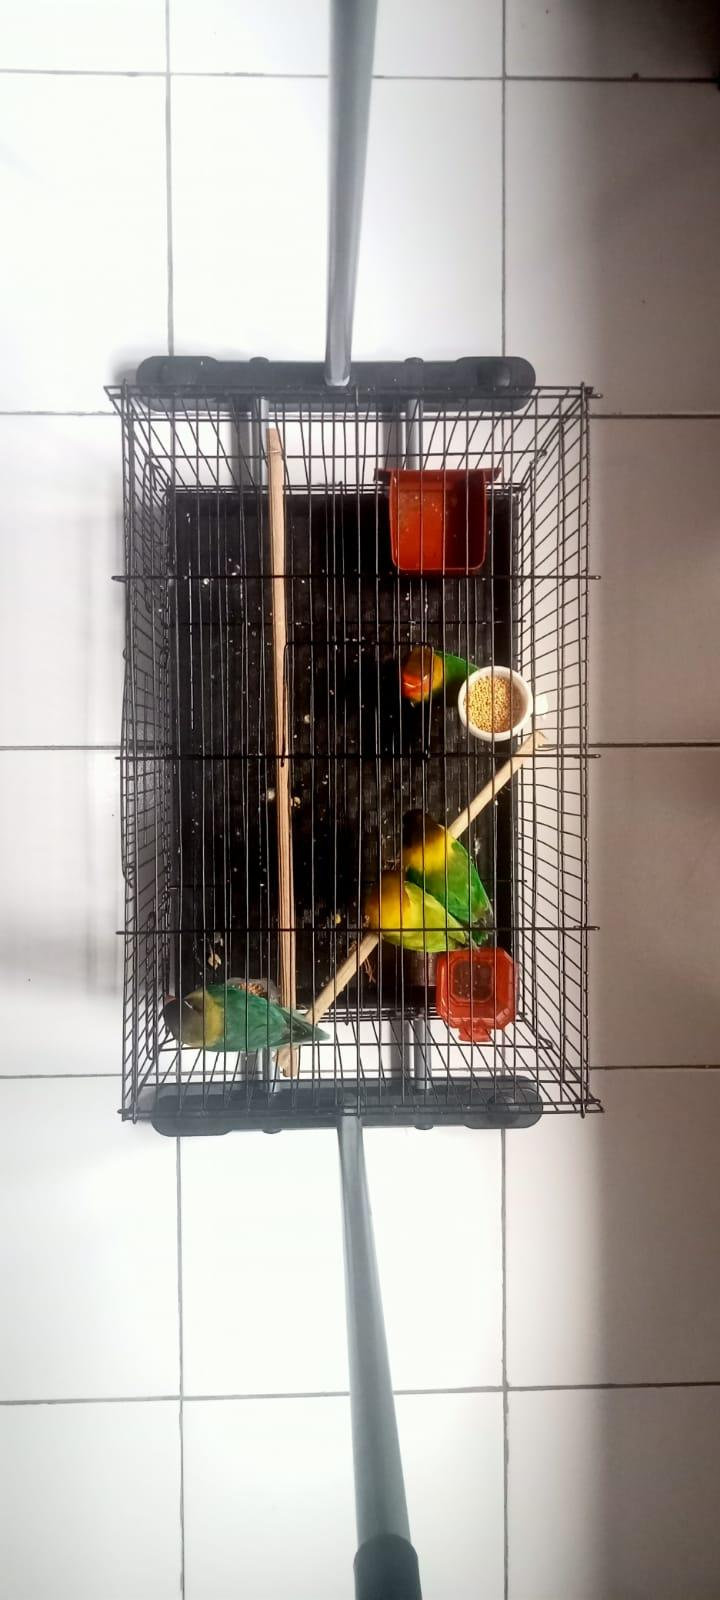LoveBird: (398, 809, 496, 944), (163, 983, 330, 1053), (366, 870, 477, 950), (402, 647, 480, 701)
